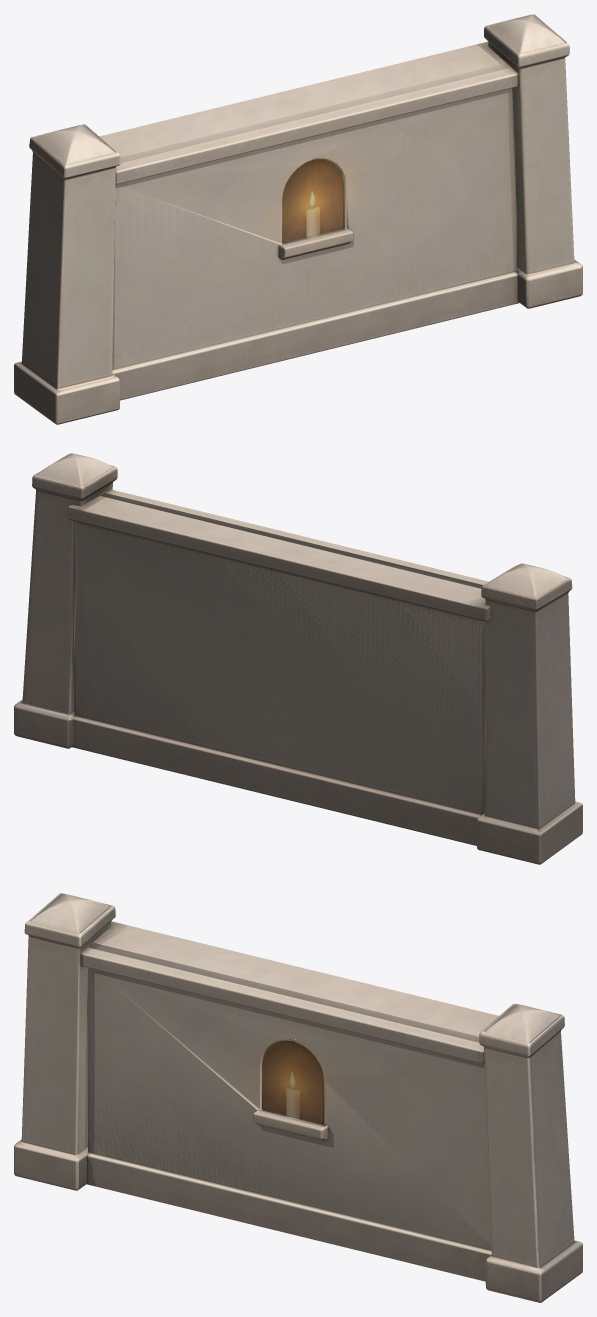
The model's file is act1-a18-5-hospice-wall-niche.glb.
3 renders of one model, top to bottom at view 1: azimuth 30°, elevation 25°; view 2: azimuth 150°, elevation 25°; view 3: azimuth 330°, elevation 25°, orthographic.
Visible parts, largest first — view 1: act1-a18-5-hospice-wall-niche; view 2: act1-a18-5-hospice-wall-niche; view 3: act1-a18-5-hospice-wall-niche.
Part boxes in pixels (x1=…): act1-a18-5-hospice-wall-niche: x1=14, y1=14, x2=582, y2=424; act1-a18-5-hospice-wall-niche: x1=14, y1=453, x2=582, y2=864; act1-a18-5-hospice-wall-niche: x1=14, y1=893, x2=582, y2=1302.
Size of the model in its own units: 6 by 2.95 by 0.853.
1 material, 1 textured.
